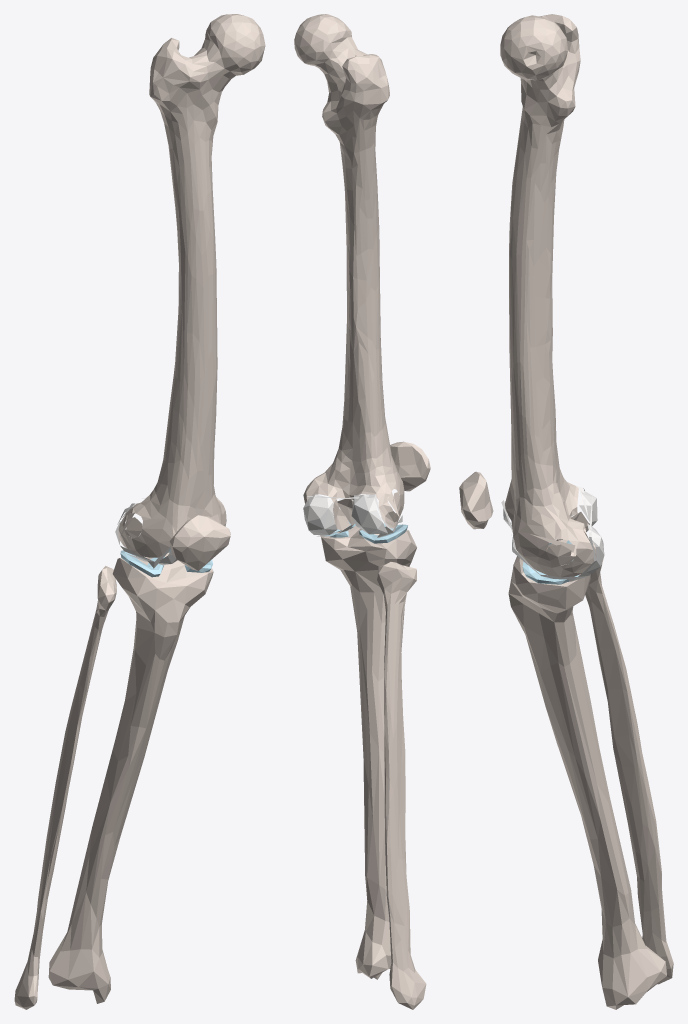
File: VH_M_Knee_R_0.1.glb
3 views of the same model, side by side, from view 1: azimuth 30°, elevation 25°; view 2: azimuth 150°, elevation 25°; view 3: azimuth 270°, elevation 25° (orthographic). The views are drawn at different scales.
Visible parts, largest first — view 1: VH_M_femur_R, VH_M_tibia_R, VH_M_fibula_R, VH_M_patella_R, VH_M_meniscus_R; view 2: VH_M_femur_R, VH_M_tibia_R, VH_M_fibula_R, VH_M_patella_R, VH_M_medial_condyle_of_right_femur_inf, VH_M_lateral_condyle_of_femur_inf_R, VH_M_meniscus_R; view 3: VH_M_femur_R, VH_M_tibia_R, VH_M_fibula_R, VH_M_patella_R, VH_M_articular_cartilage_of_knee_R.
Part boxes in pixels (left/top/right/bottom): VH_M_femur_R: left=118, top=14, right=265, bottom=557; VH_M_tibia_R: left=48, top=552, right=213, bottom=1003; VH_M_fibula_R: left=14, top=566, right=116, bottom=1009; VH_M_patella_R: left=169, top=515, right=230, bottom=570; VH_M_meniscus_R: left=120, top=549, right=212, bottom=577; VH_M_femur_R: left=294, top=14, right=404, bottom=528; VH_M_tibia_R: left=320, top=525, right=416, bottom=979; VH_M_fibula_R: left=377, top=562, right=426, bottom=1009; VH_M_patella_R: left=390, top=441, right=430, bottom=491; VH_M_medial_condyle_of_right_femur_inf: left=303, top=494, right=337, bottom=535; VH_M_lateral_condyle_of_femur_inf_R: left=351, top=495, right=387, bottom=534; VH_M_meniscus_R: left=324, top=520, right=407, bottom=543; VH_M_femur_R: left=500, top=14, right=593, bottom=577; VH_M_tibia_R: left=508, top=539, right=666, bottom=1009; VH_M_fibula_R: left=585, top=539, right=673, bottom=984; VH_M_patella_R: left=459, top=471, right=493, bottom=529; VH_M_articular_cartilage_of_knee_R: left=501, top=486, right=596, bottom=581.
Size of the model in its own units: 0.1739 by 0.8881 by 0.1652.
